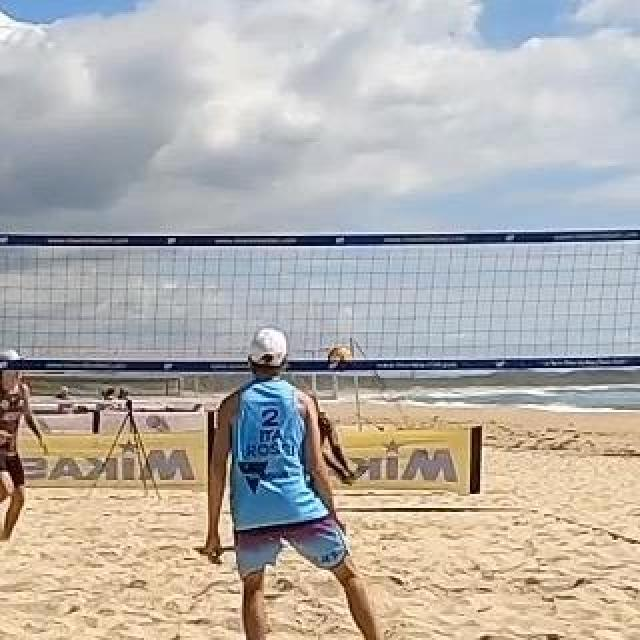volleyball: (329, 344, 353, 368)
